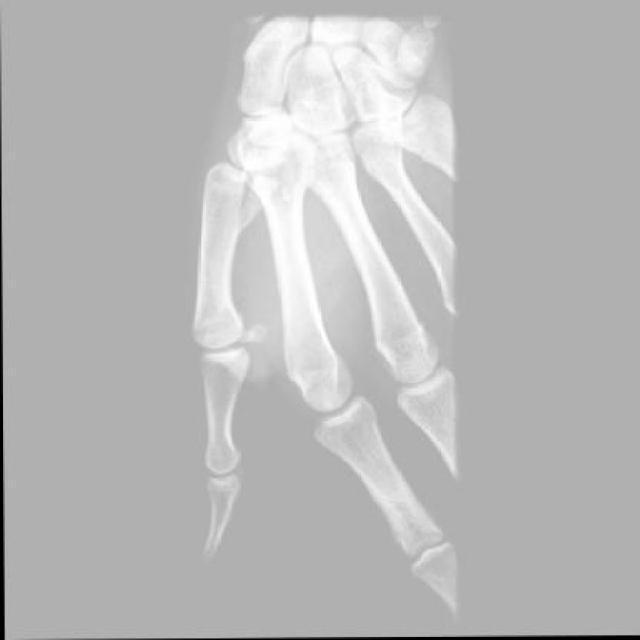Fracture: (217, 170, 271, 236)
